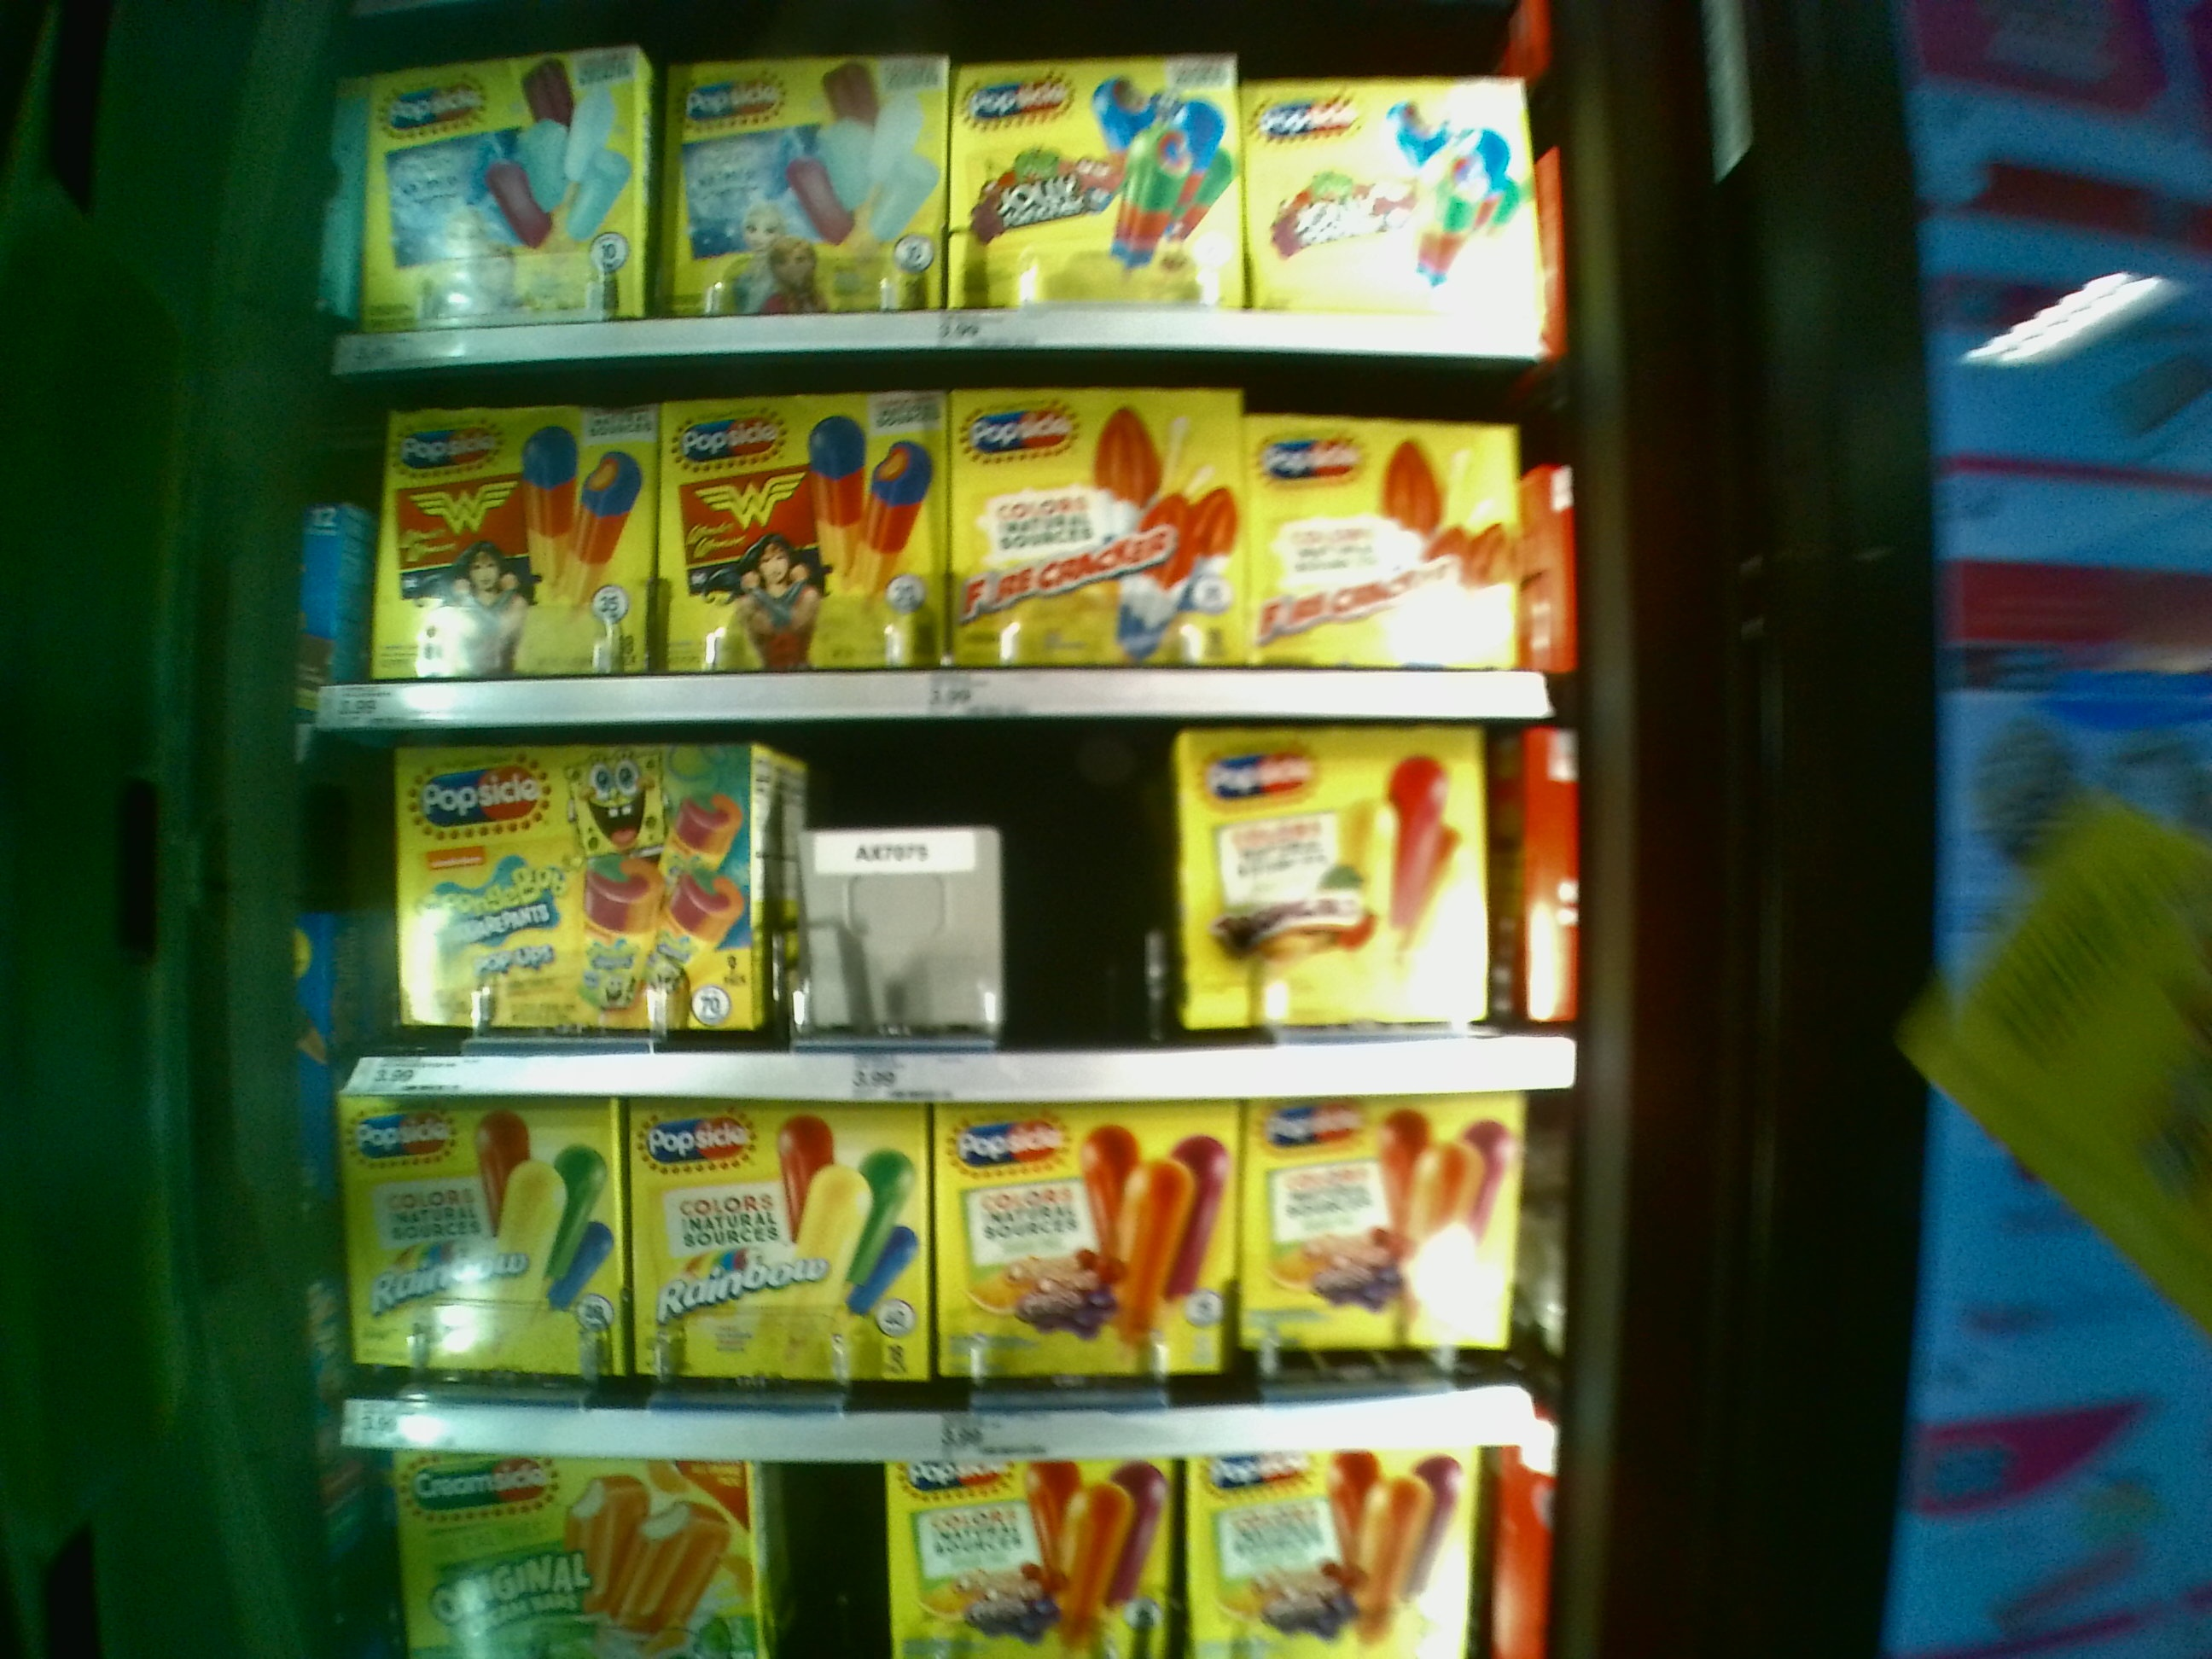shelf: (354, 723, 1575, 1091), (345, 1084, 1555, 1452), (355, 369, 1557, 716), (364, 19, 1526, 362)
